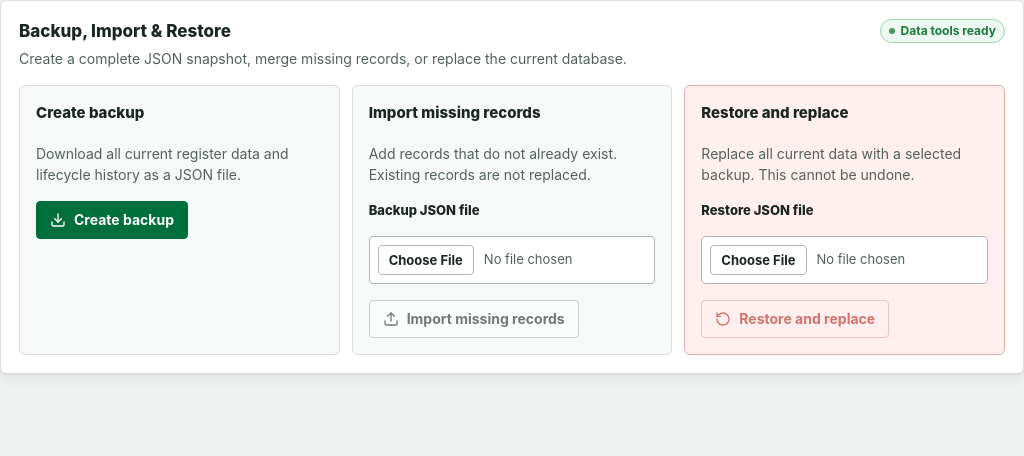
Test case: BackupRestoreControls › creates and downloads a database backup
Click the button "Create backup" at x=112, y=220, box x1=36 y1=201 x2=188 y2=239
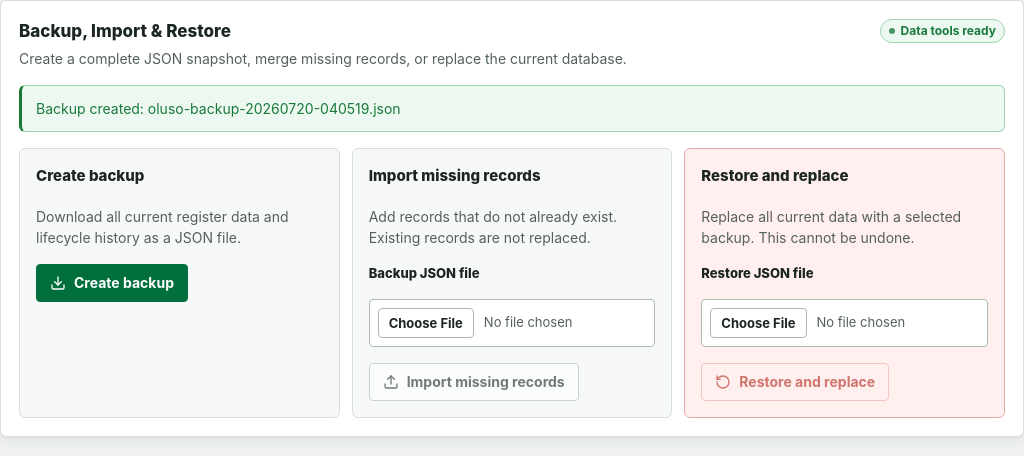
Check: the message "Backup created: oluso-backup-20260720-040519.json" is shown, box x1=19 y1=85 x2=1005 y2=132
